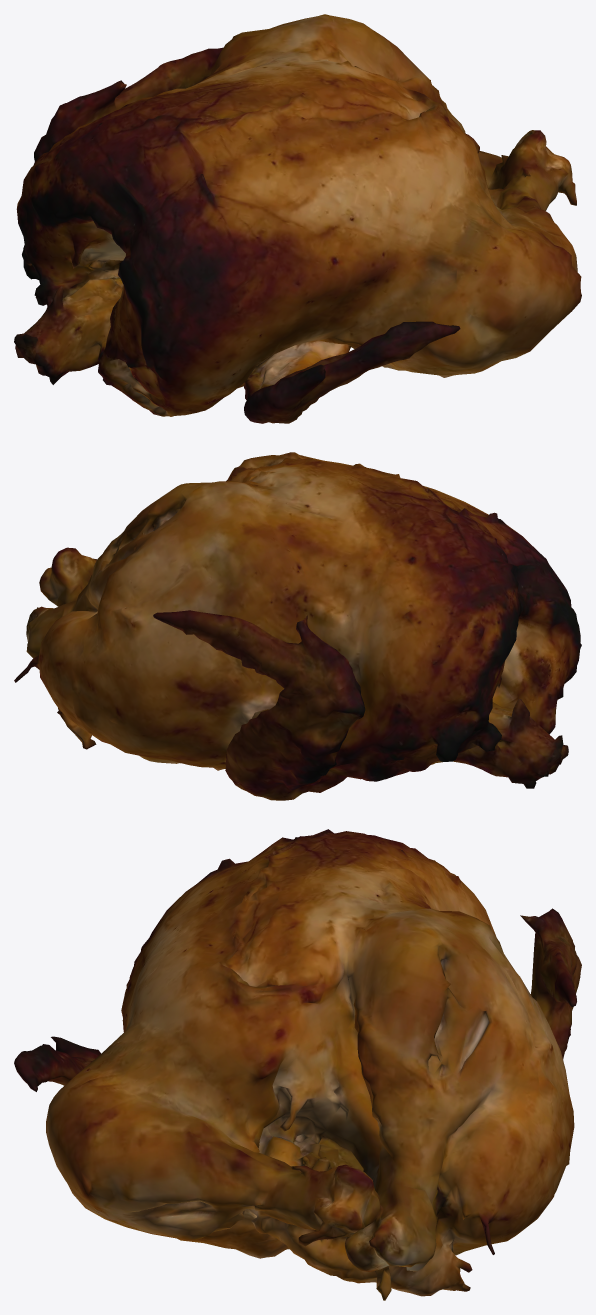
File: ayamBakar.compressed.glb
The picture shows the model from 3 angles, top to bottom: view 1: azimuth 30°, elevation 25°; view 2: azimuth 150°, elevation 25°; view 3: azimuth 270°, elevation 25°; orthographic projection. The views are drawn at different scales.
Parts seen in each view (by area): view 1: Object_2; view 2: Object_2; view 3: Object_2.
Boxes of the visible parts, <box> form: Object_2: <box>14,14,581,423</box>; Object_2: <box>14,452,581,800</box>; Object_2: <box>14,829,581,1300</box>.
Bounding box in the file's own units: 0.1749 × 0.0877 × 0.1448.
1 material, 1 textured.
